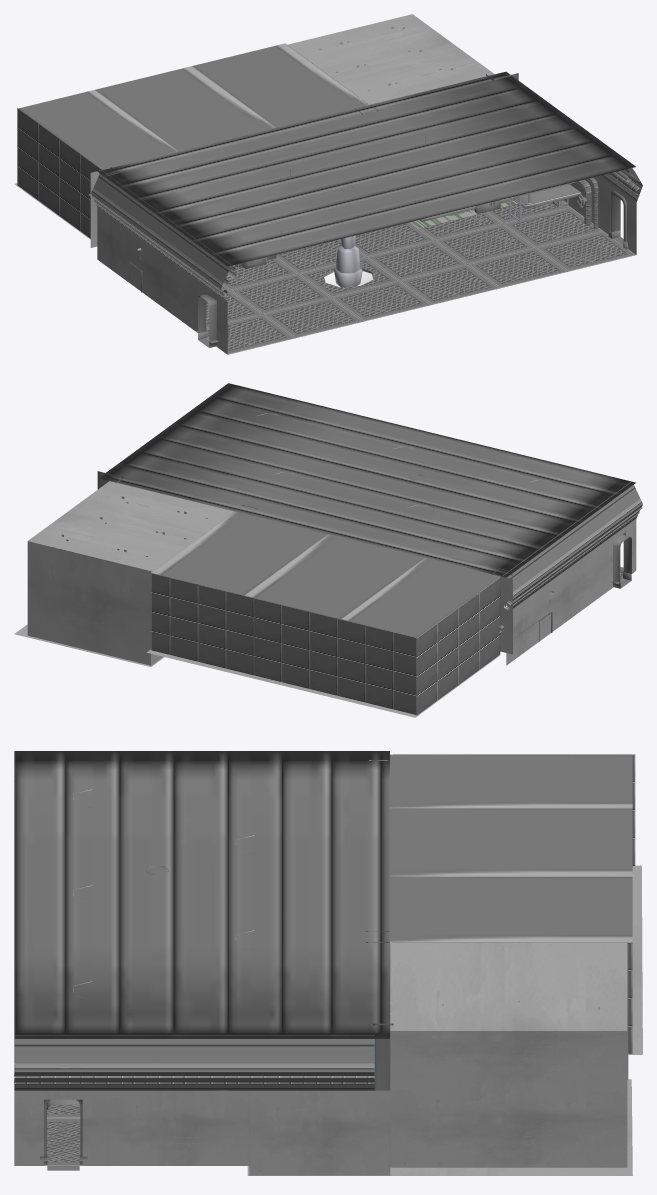
The model's file is MSH_Power_Plant_room_L3_R3_optimized.fbx.
3 renders of one model, top to bottom at view 1: azimuth 30°, elevation 25°; view 2: azimuth 150°, elevation 25°; view 3: azimuth 270°, elevation 25°, orthographic. The views are drawn at different scales.
Parts seen in each view (by area): view 1: lightmap0, lightmap1, lightmap-1, MSH_Power_Plant_room_ani01 1; view 2: lightmap0, lightmap-1, lightmap1; view 3: lightmap0, lightmap1.
Part boxes in pixels (bbox=[...]): lightmap0: bbox=[14, 14, 642, 354]; lightmap1: bbox=[89, 27, 641, 338]; lightmap-1: bbox=[198, 194, 623, 347]; MSH_Power_Plant_room_ani01 1: bbox=[334, 185, 362, 287]; lightmap0: bbox=[14, 383, 642, 717]; lightmap-1: bbox=[613, 535, 631, 588]; lightmap1: bbox=[53, 493, 642, 633]; lightmap0: bbox=[14, 751, 642, 1175]; lightmap1: bbox=[14, 760, 599, 1137].
Size of the model in its own units: 30.91 by 6.83 by 27.62.
6 materials, 5 textured.
